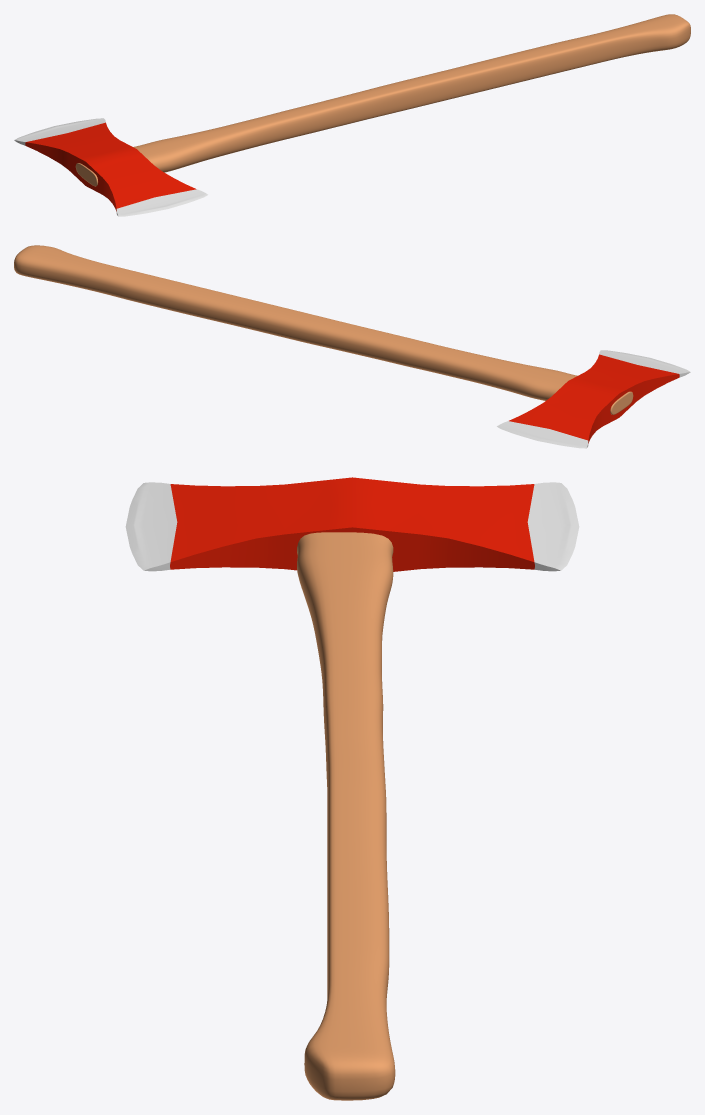
The model's file is axeExport-5.fbx.
3 views of the same model, one above another, from view 1: azimuth 30°, elevation 25°; view 2: azimuth 150°, elevation 25°; view 3: azimuth 270°, elevation 25° (orthographic). The views are drawn at different scales.
Parts seen in each view (by area): view 1: Handle.004; view 2: Handle.004; view 3: Handle.004.
Boxes of the visible parts, <box> form: Handle.004: <box>14,14,690,216</box>; Handle.004: <box>14,245,690,448</box>; Handle.004: <box>125,477,579,1100</box>.
Size of the model in its own units: 2115 by 79.69 by 671.
